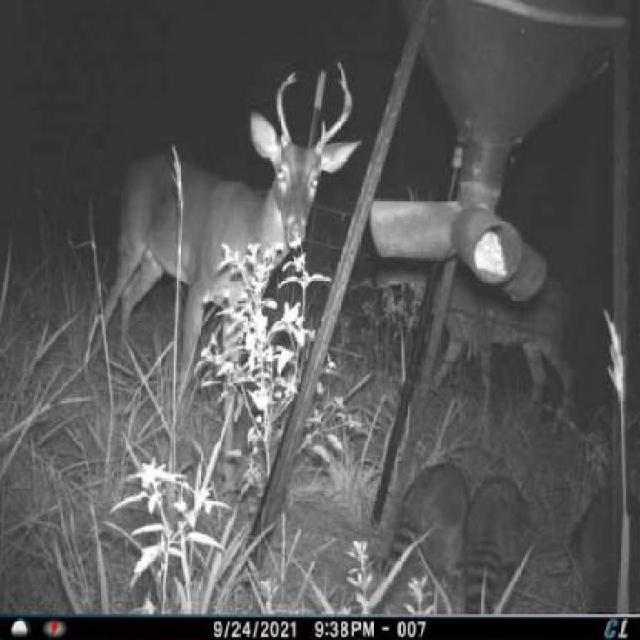Deer: (84, 57, 365, 435)
